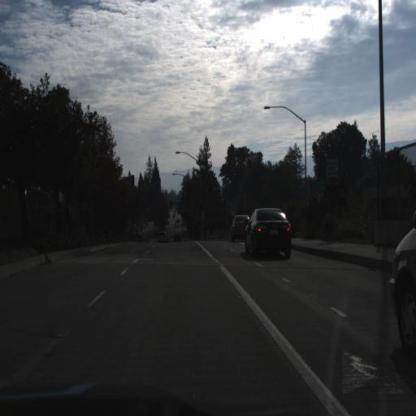car: (243, 206, 294, 256), (227, 206, 252, 251), (232, 213, 250, 244), (172, 230, 181, 244)
